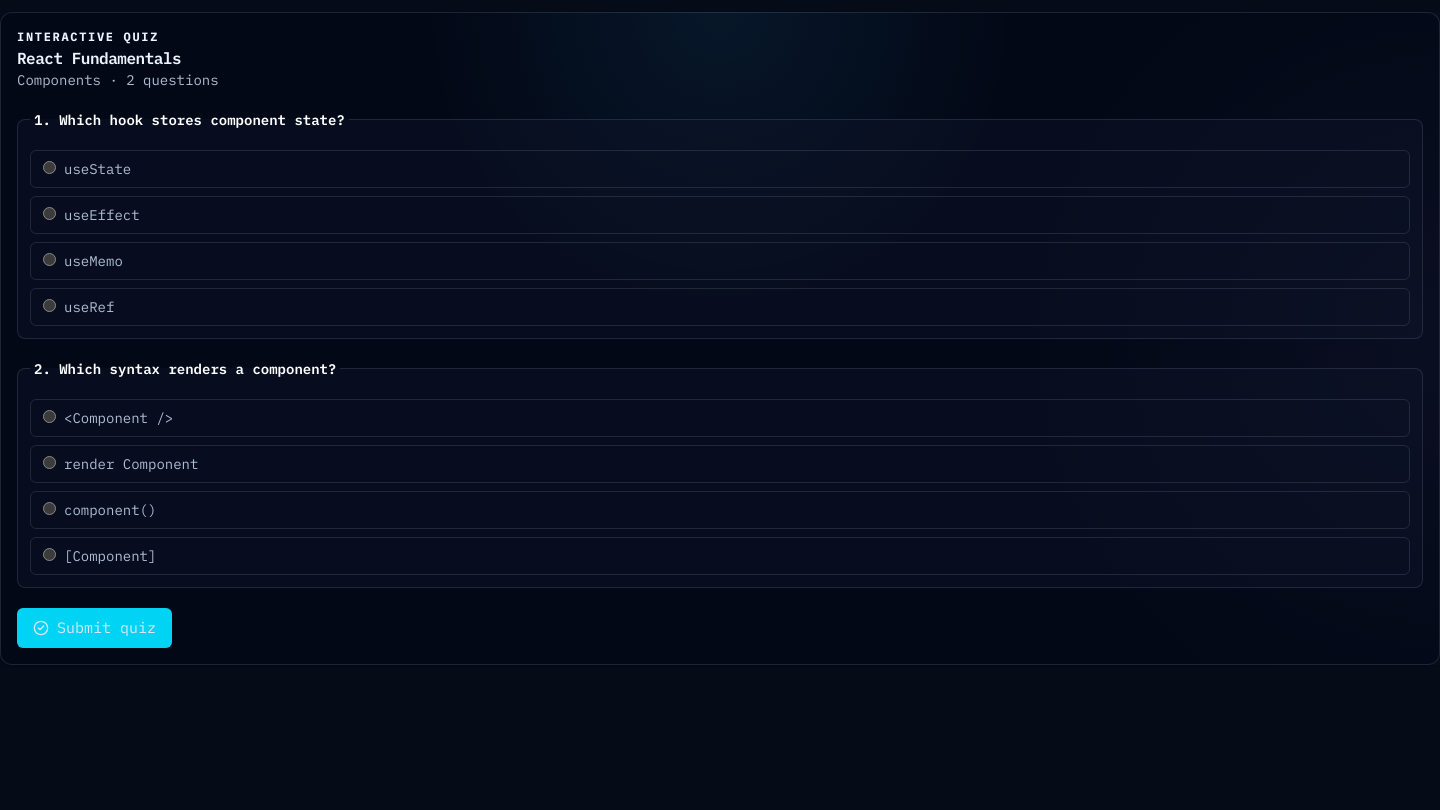
Scenario: StudyQuizToolCard › rejects an incomplete quiz submission
This screenshot has width=1440, height=810.
Click the radio button labelled "useState".
click(50, 167)  # box [43,161,56,174]
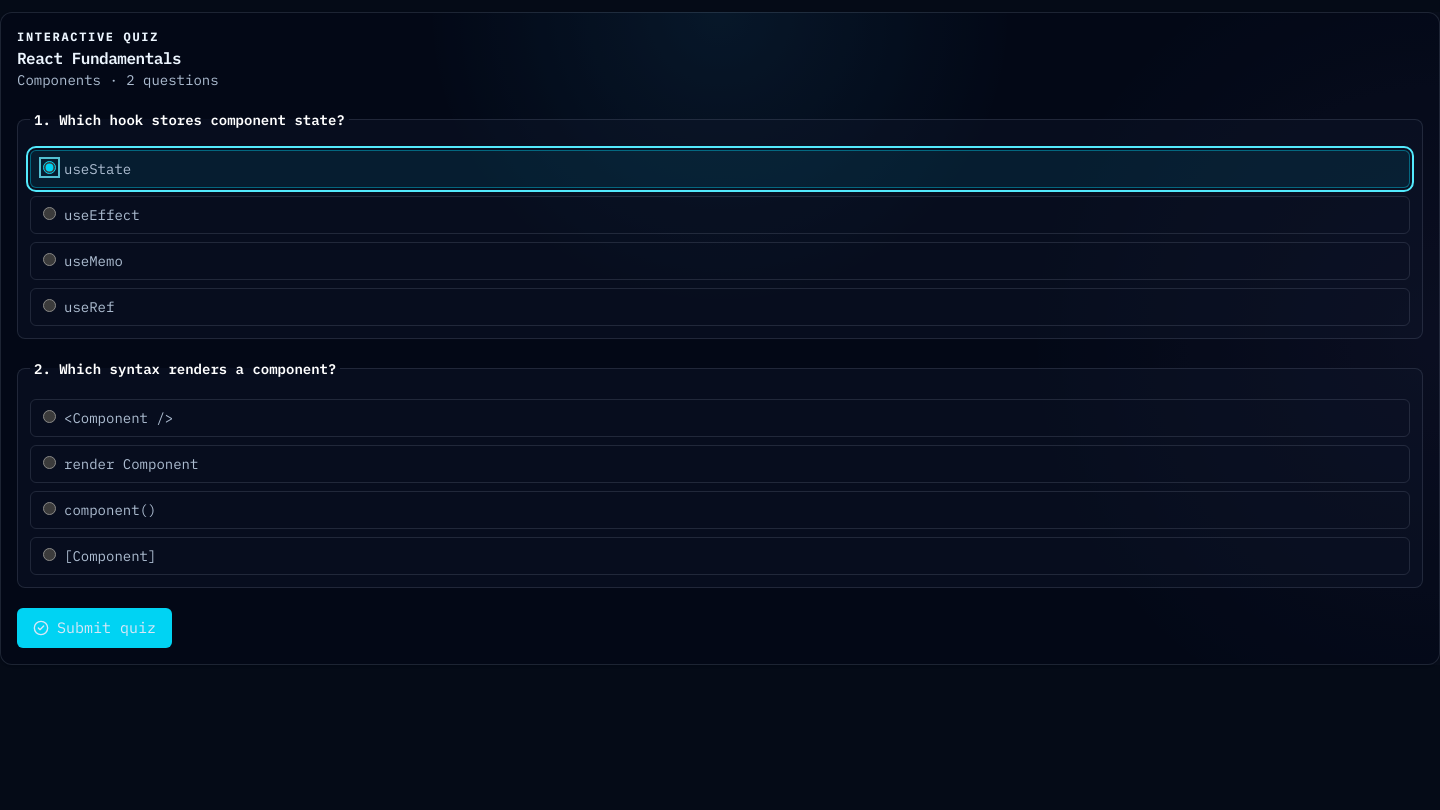
Click the button "Submit quiz".
click(94, 628)  # box [17,608,172,648]
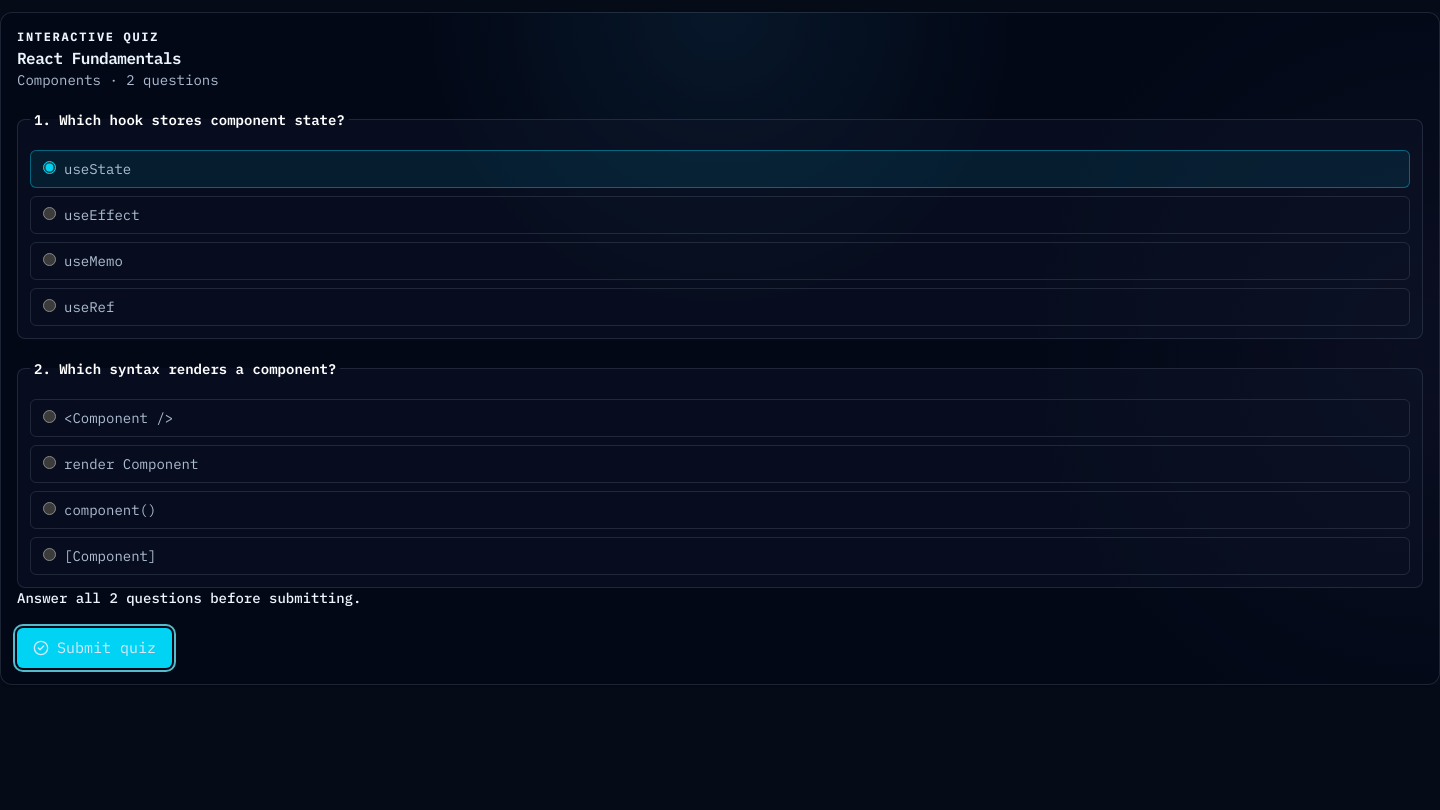
Now the message shows "Answer all 2 questions before submitting", box [17,589,361,607]
